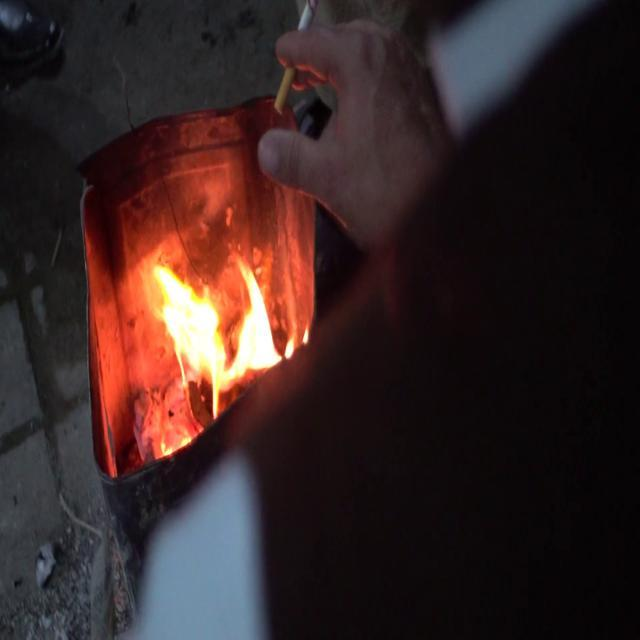Fire: (149, 258, 282, 406)
